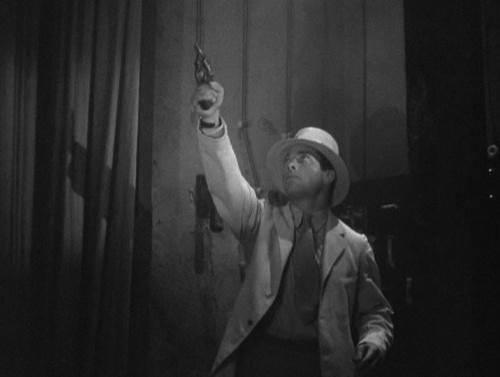Gun: (192, 42, 218, 112)
